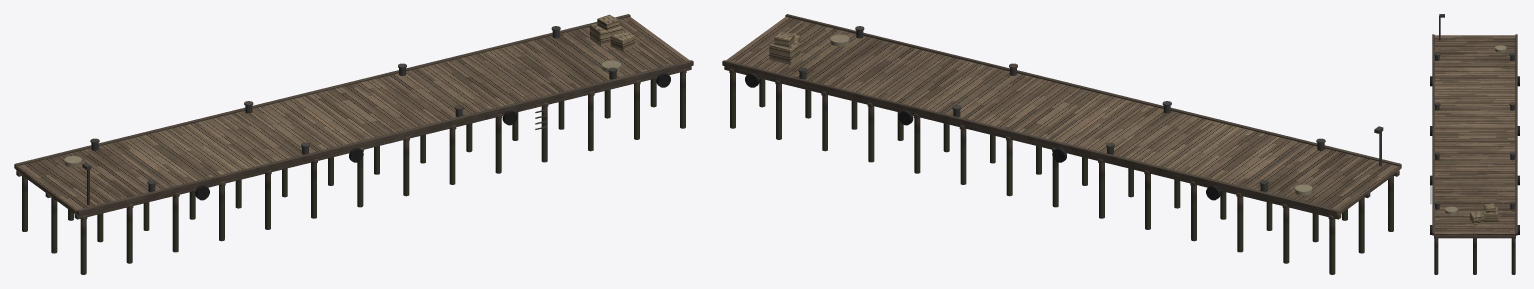
Rendered from a05_pier_a.glb.
3 views of the same model, side by side, from view 1: azimuth 30°, elevation 25°; view 2: azimuth 150°, elevation 25°; view 3: azimuth 270°, elevation 25° (orthographic). The views are drawn at different scales.
Visible parts, largest first — view 1: body; view 2: body; view 3: body.
Part boxes in pixels (<box>): body: <box>14,14,693,274</box>; body: <box>722,14,1401,274</box>; body: <box>1430,14,1519,274</box>.
Bounding box in the file's own units: 1 × 0.1612 × 0.1915.
Materials: 1 (1 with a texture image).
